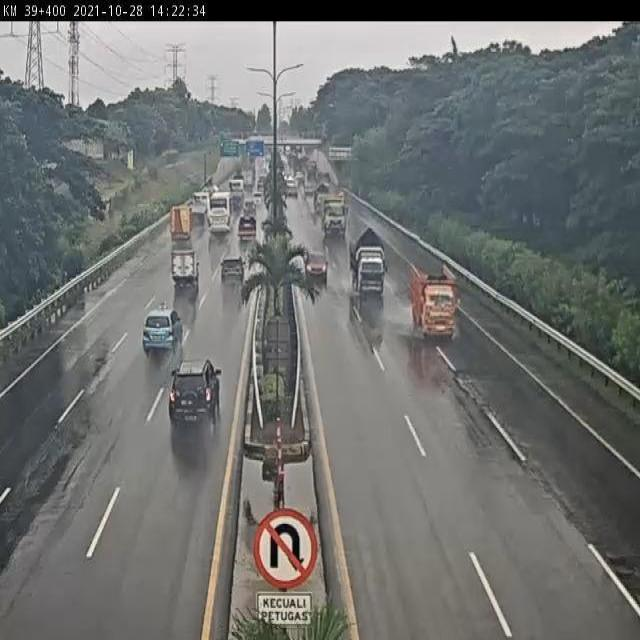ARABA: (171, 248, 200, 288)
KAMYONET: (409, 253, 458, 339), (347, 220, 388, 300), (169, 200, 194, 241), (239, 211, 258, 245)
OTOBUS: (206, 189, 238, 236)
TIR: (320, 188, 349, 235)
